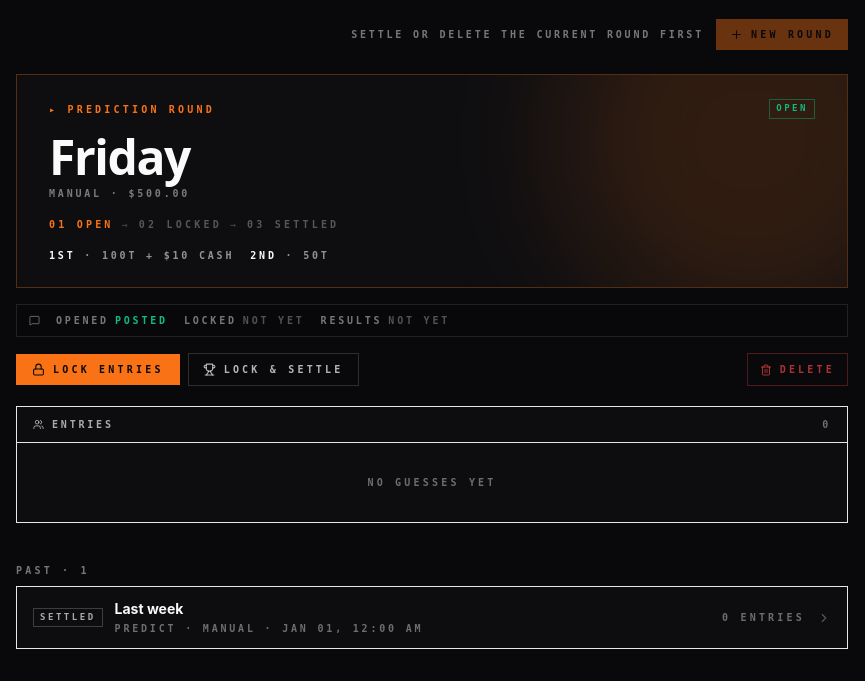
it: opening a past round shows its results read-only
(page scrolled)
Click the button "Last week": (68, 618) left=17, top=587, right=847, bottom=648
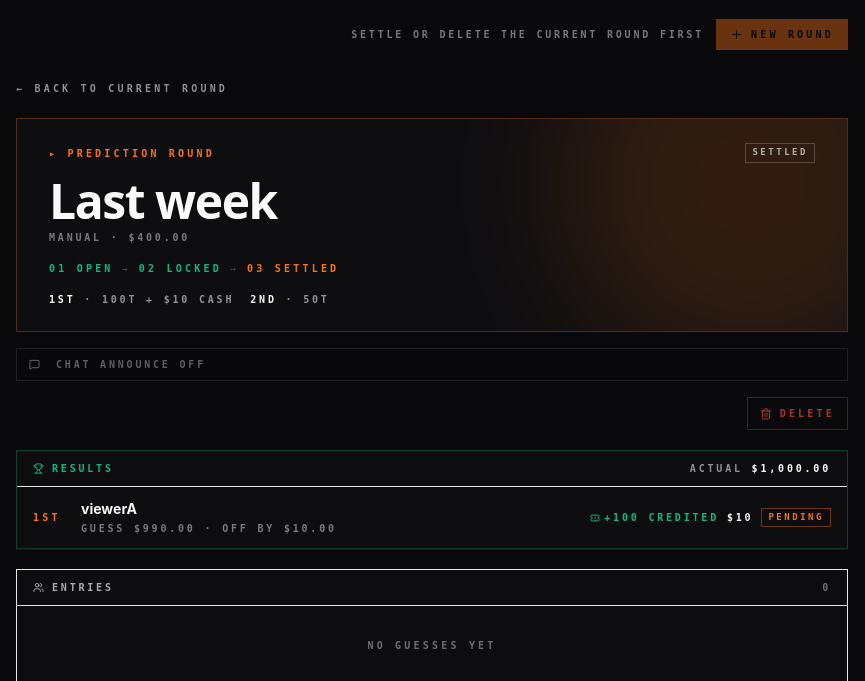
Expected: the text "+100 credited" is shown, left=590, top=510, right=719, bottom=525
Expected: the link "pending" is shown, left=761, top=508, right=831, bottom=527
Expected: the button "Lock entries" is gone
Click the button "← Back to current round": (122, 89) left=16, top=81, right=228, bottom=96
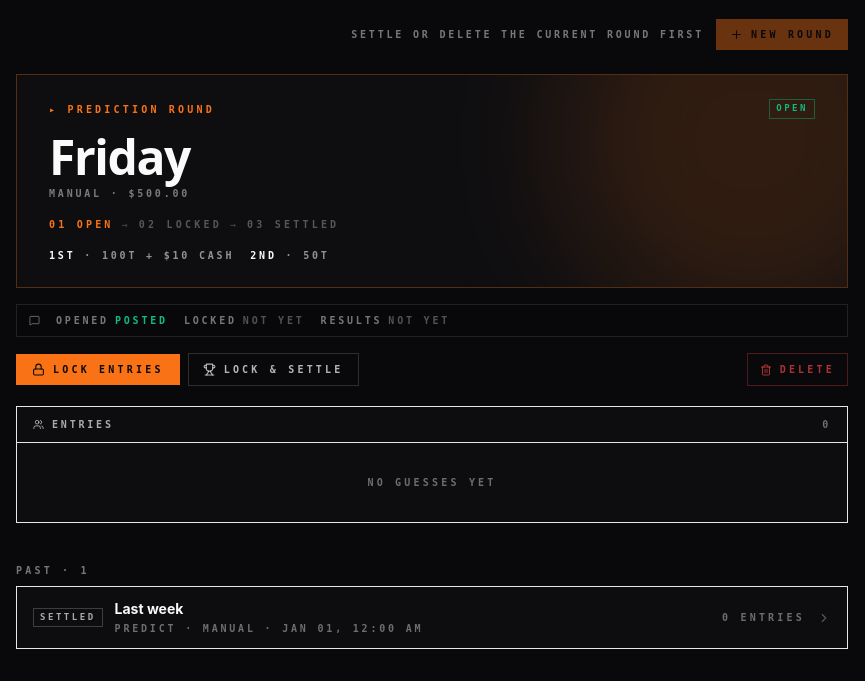
Expected: the button "Lock entries" is shown, left=16, top=354, right=180, bottom=385
